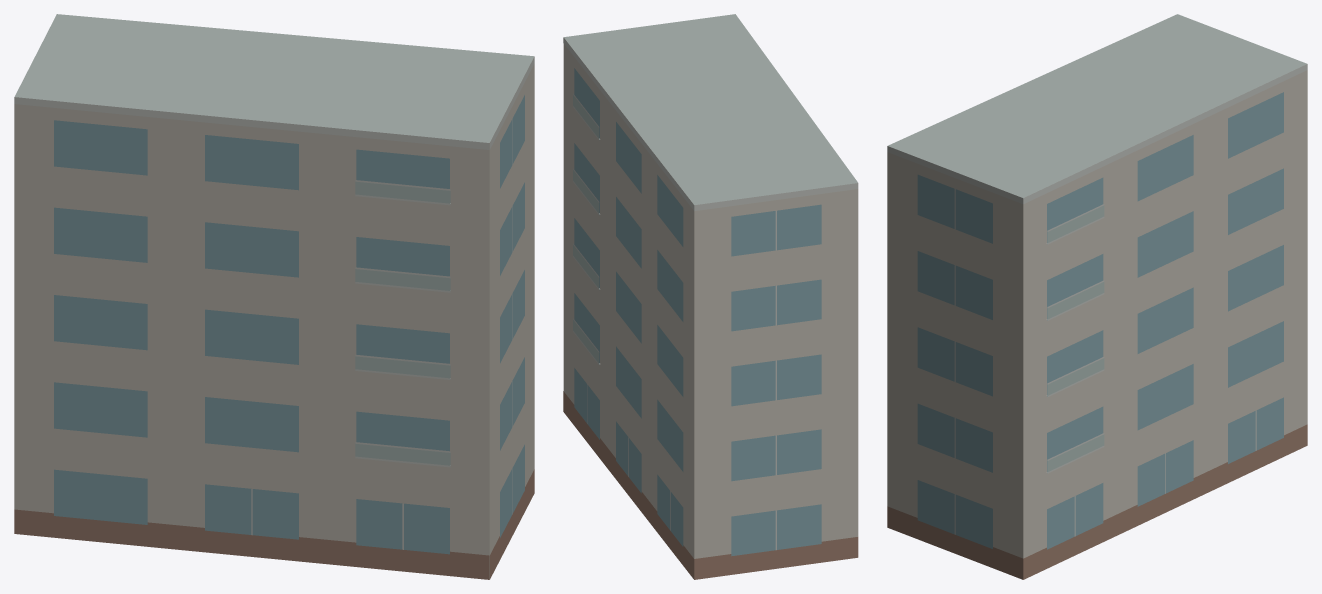
Rendered from survey-upis-32643641.glb.
The picture shows the model from 3 angles, left to right: view 1: azimuth 30°, elevation 25°; view 2: azimuth 150°, elevation 25°; view 3: azimuth 270°, elevation 25°; orthographic projection. The views are drawn at different scales.
Parts seen in each view (by area): view 1: survey-upis-32643641.tmp; view 2: survey-upis-32643641.tmp; view 3: survey-upis-32643641.tmp.
Part boxes in pixels (x1,y1,x2,y2): survey-upis-32643641.tmp: (14, 14, 534, 579); survey-upis-32643641.tmp: (563, 14, 858, 579); survey-upis-32643641.tmp: (887, 14, 1307, 579).
Bounding box in the file's own units: 15.79 × 15.25 × 15.22.
